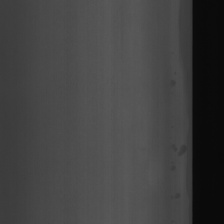oil_spot: (168, 140, 186, 166), (168, 72, 177, 95), (173, 186, 183, 204)
